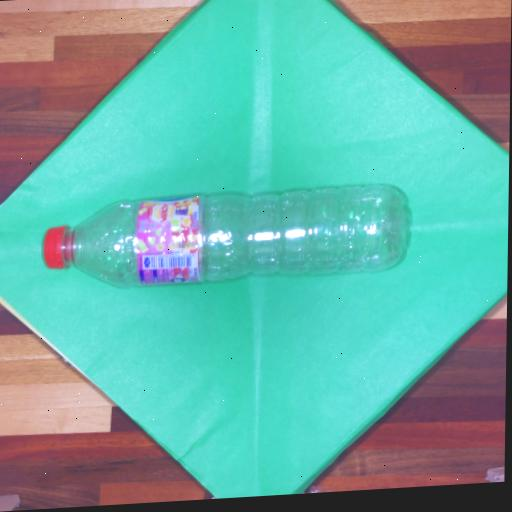bottle: (31, 168, 419, 311)
